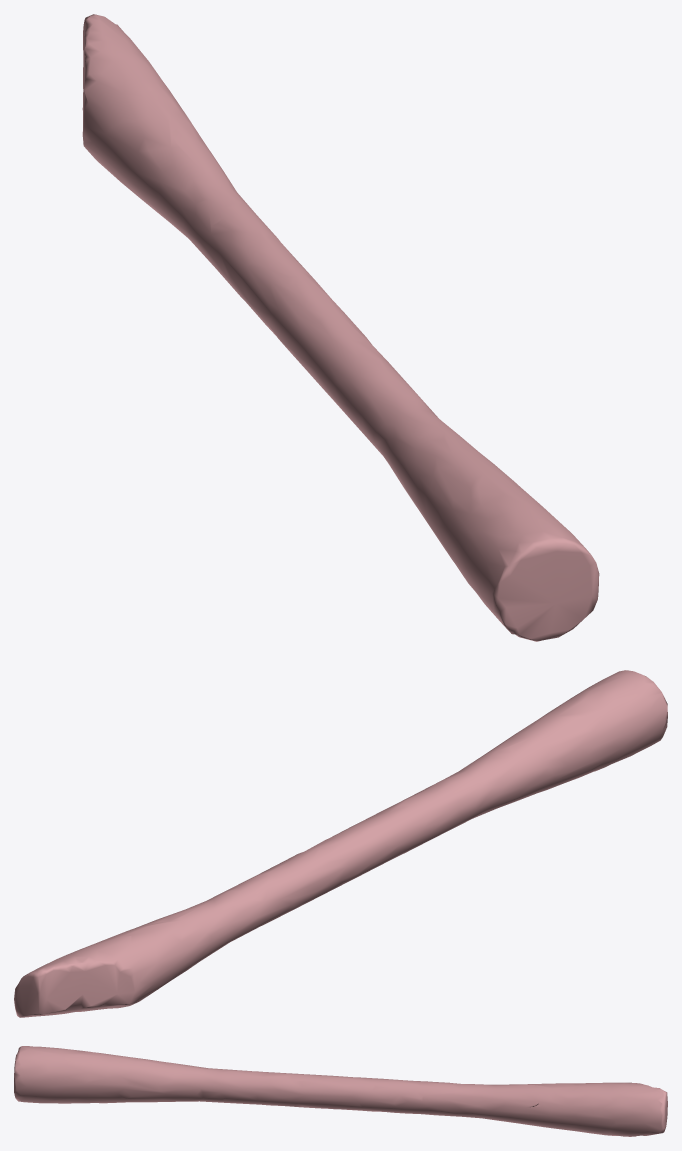
File: fma55246_mm1176.glb
3 renders of one model, top to bottom at view 1: azimuth 30°, elevation 25°; view 2: azimuth 150°, elevation 25°; view 3: azimuth 270°, elevation 25°, orthographic. The views are drawn at different scales.
Visible parts, largest first — view 1: FMA55246_MM1176; view 2: FMA55246_MM1176; view 3: FMA55246_MM1176.
Part boxes in pixels (bbox=[...]): FMA55246_MM1176: bbox=[82, 14, 599, 641]; FMA55246_MM1176: bbox=[14, 670, 667, 1017]; FMA55246_MM1176: bbox=[14, 1046, 667, 1136].
Size of the model in its own units: 0.00409 by 0.0016 by 0.017.
